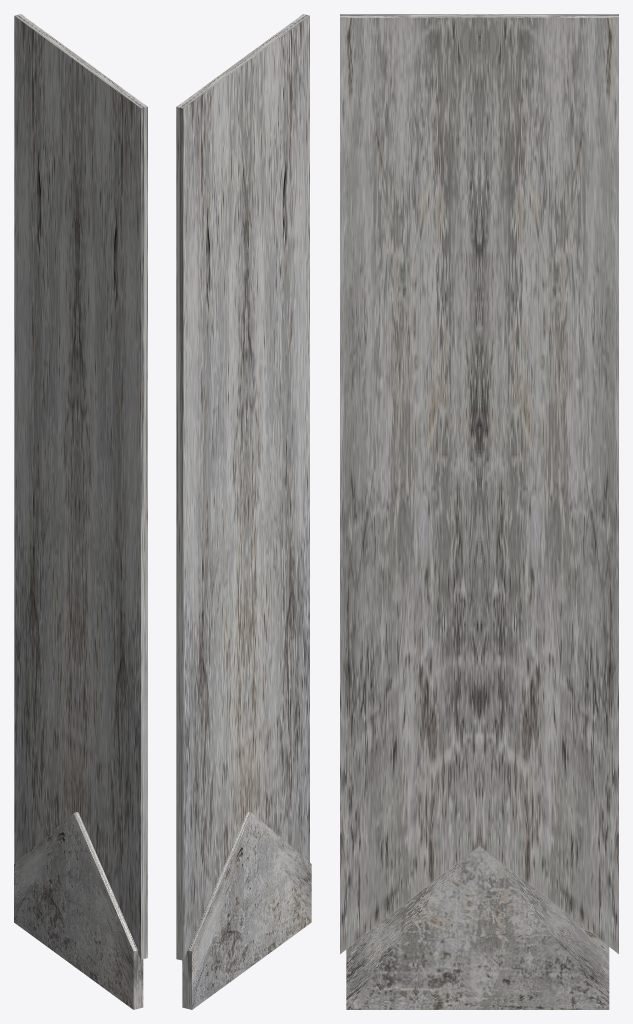
File: doorthign.fbx
3 renders of one model, left to right at view 1: azimuth 30°, elevation 25°; view 2: azimuth 150°, elevation 25°; view 3: azimuth 270°, elevation 25°, orthographic. The views are drawn at different scales.
Parts seen in each view (by area): view 1: pCube11, pCube1, pCube2; view 2: pCube1, pCube11, pCube2; view 3: pCube1, pCube11, pCube2.
Boxes of the visible parts, <box> form: pCube11: <box>78,60,147,959</box>; pCube1: <box>14,14,84,863</box>; pCube2: <box>14,812,143,1009</box>; pCube1: <box>176,60,246,960</box>; pCube11: <box>240,14,309,861</box>; pCube2: <box>182,811,311,1009</box>; pCube1: <box>478,14,618,953</box>; pCube11: <box>340,14,480,953</box>; pCube2: <box>346,846,609,1009</box>.
Bounding box in the file's own units: 0.4206 × 31.79 × 8.09.
Materials: 1 (1 with a texture image).
